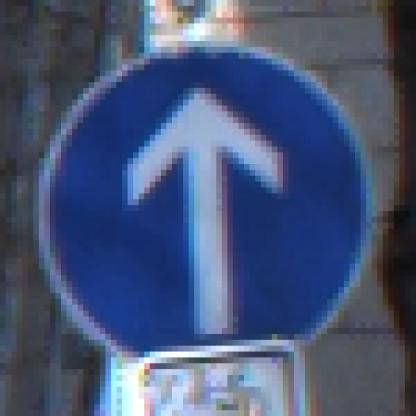AheadOnly: (34, 36, 384, 382)
